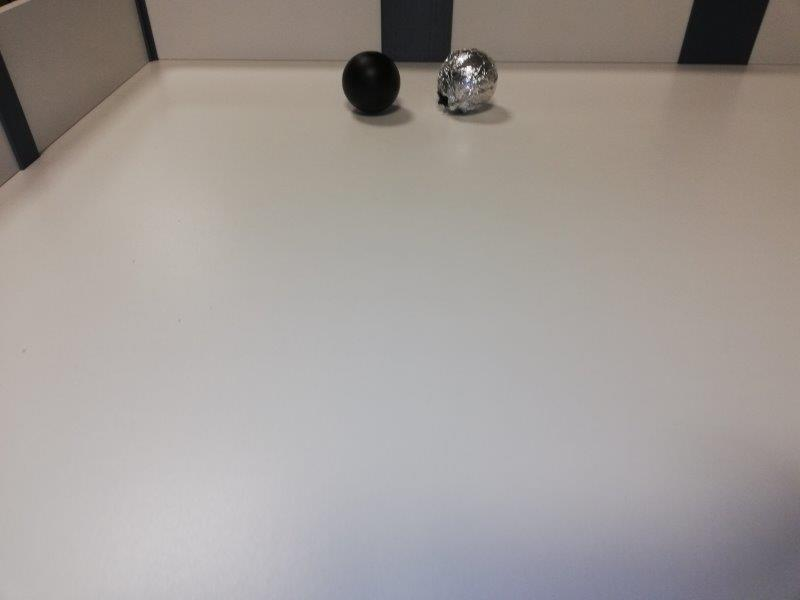bianca: (436, 49, 498, 113)
nera: (341, 51, 403, 114)
